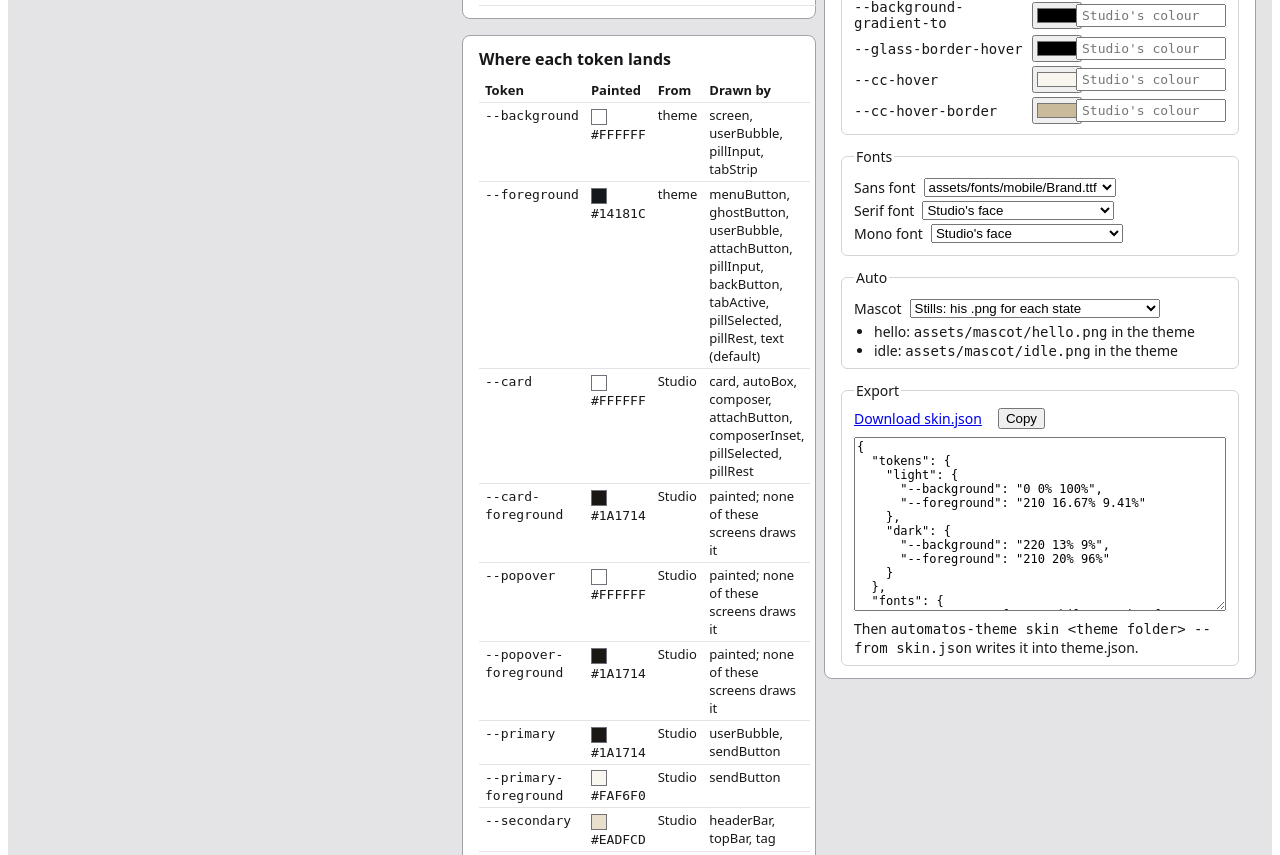
Test: the export › copies the same text, and says so when the page may not use the clipboard
(page scrolled)
Click the button "Copy": (1021, 418) [998,408,1045,429]
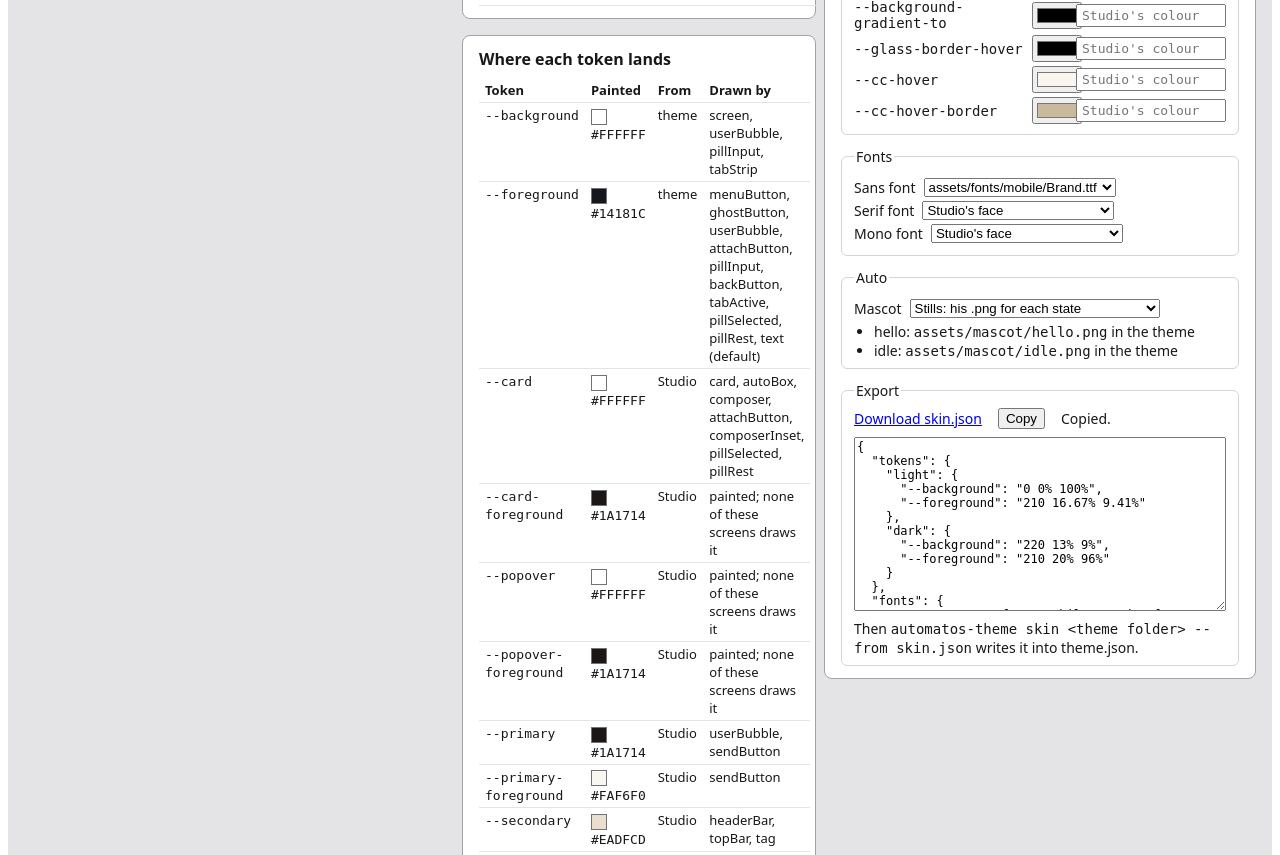
Result: the text "Copied." is shown at [1061,409,1111,428]
Click the button "Copy": (1021, 418) [998,408,1045,429]
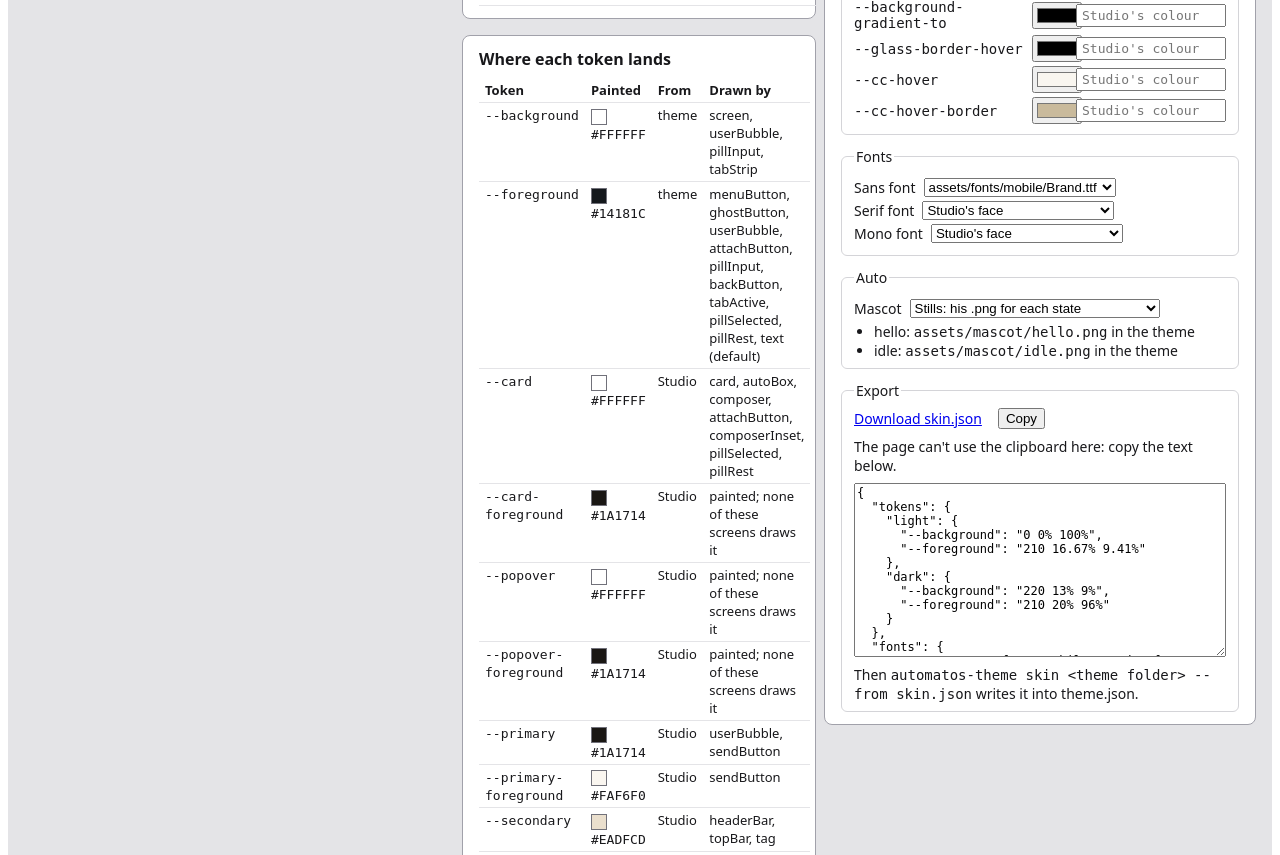
Result: the text "The page can't use the clipboard here: copy the text below." is shown at [854,437,1226,475]
